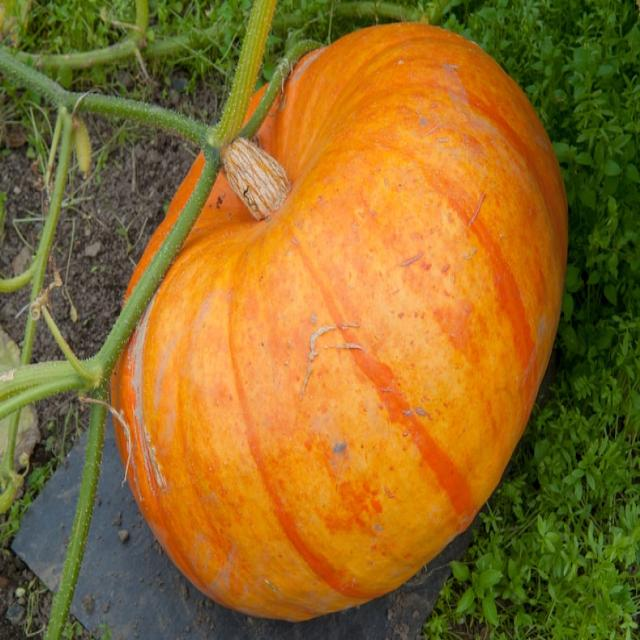pumpkin: (112, 23, 568, 620), (128, 156, 202, 294), (222, 136, 291, 220), (250, 92, 261, 110)
